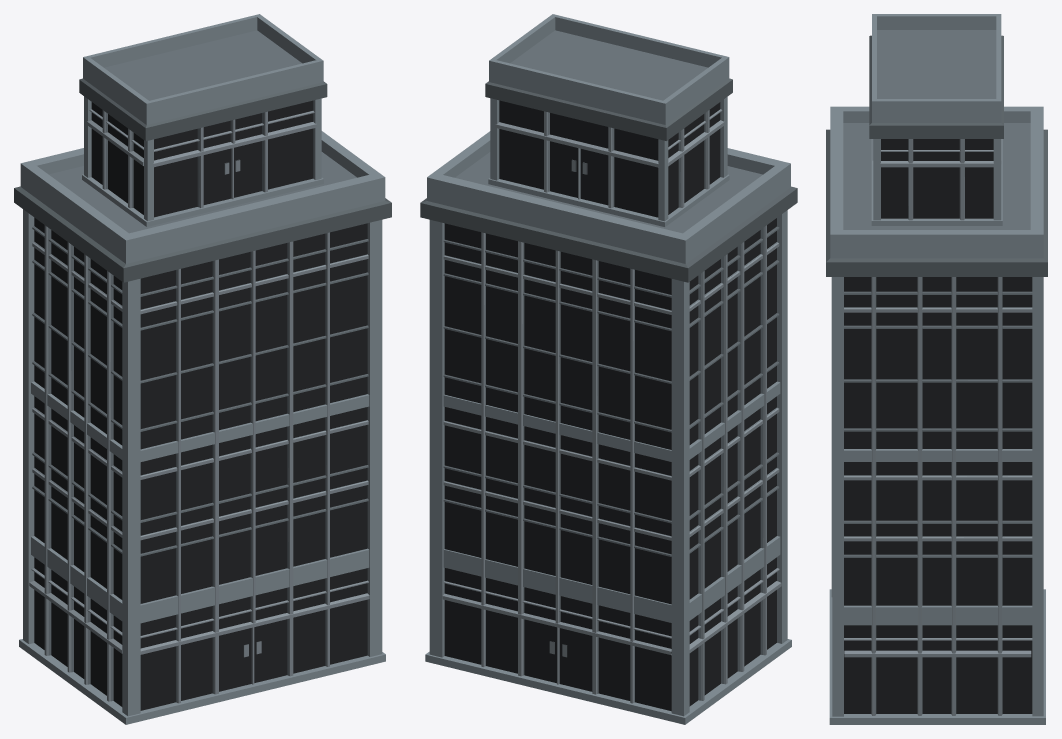
Rendered from SM_Gen_Bld_Background_11.glb.
3 views of the same model, side by side, from view 1: azimuth 30°, elevation 25°; view 2: azimuth 150°, elevation 25°; view 3: azimuth 270°, elevation 25° (orthographic).
Visible parts, largest first — view 1: SM_Gen_Bld_Background_11; view 2: SM_Gen_Bld_Background_11; view 3: SM_Gen_Bld_Background_11.
Part boxes in pixels (x1,y1,x2,y2): SM_Gen_Bld_Background_11: (14,14,391,724); SM_Gen_Bld_Background_11: (420,14,797,724); SM_Gen_Bld_Background_11: (826,14,1047,724).
Size of the model in its own units: 9.46 by 20.05 by 6.69.
Materials: 2 (2 with a texture image).
